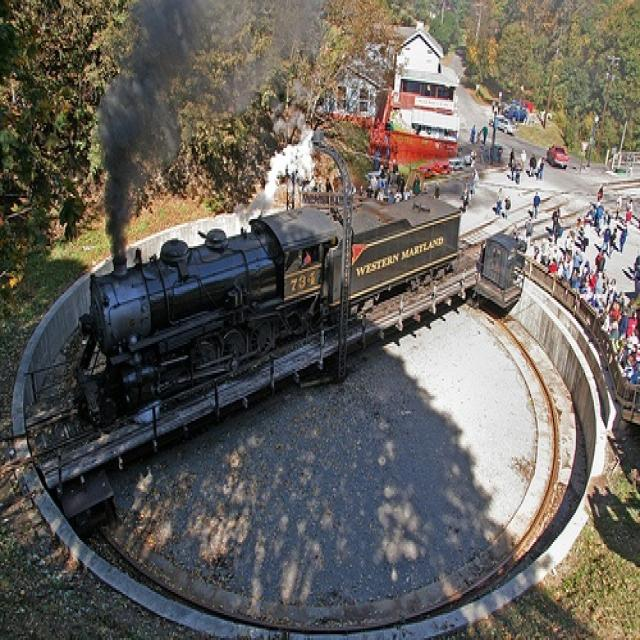train: (78, 195, 468, 397)
